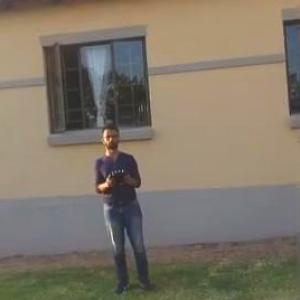follow: (90, 120, 156, 299)
